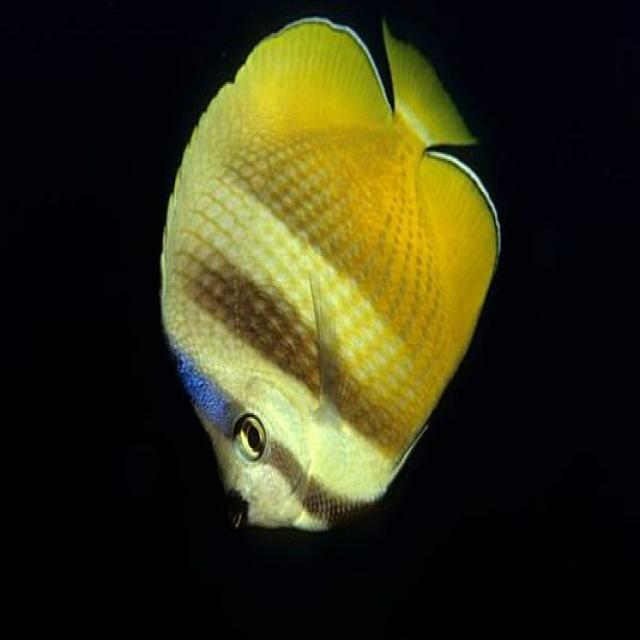ButterflyFish: (156, 13, 502, 534)
